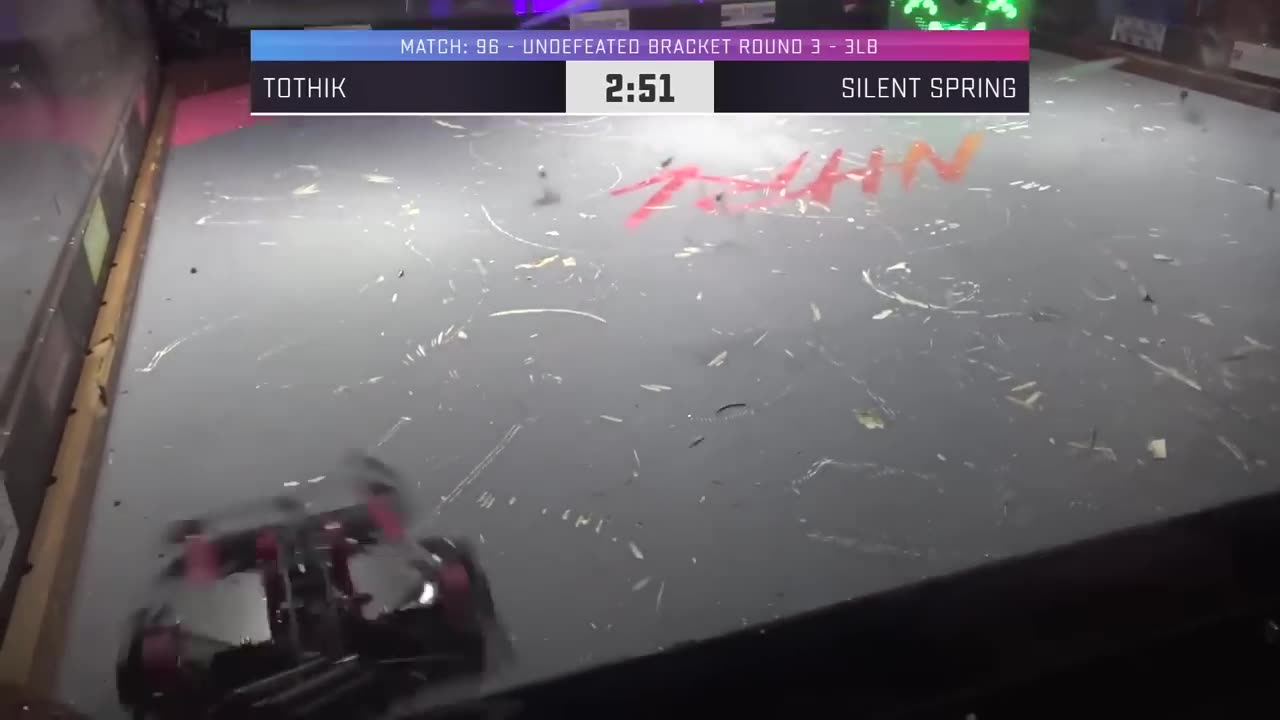combatbot: (116, 479, 492, 720)
housebot: (891, 0, 1031, 32)
